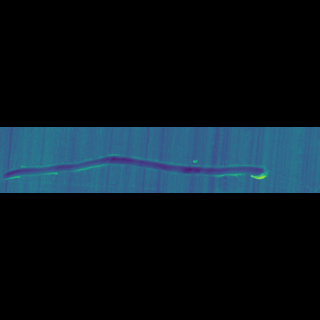Loch: (0, 158, 270, 164)
